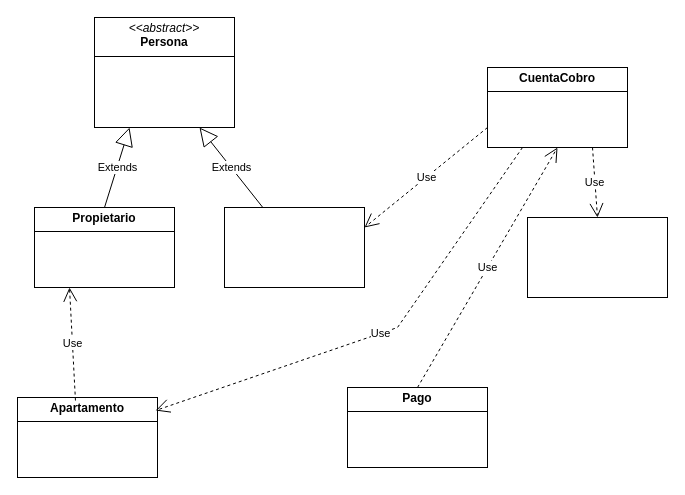
The diagram is 685 pixels wide and 495 high, and some of its shapes have lost their labels. The centre of each missing label's shape, as x and y in pixels:
Administrador: the point at 294,247
EstadoCuentaCobro: the point at 597,257
